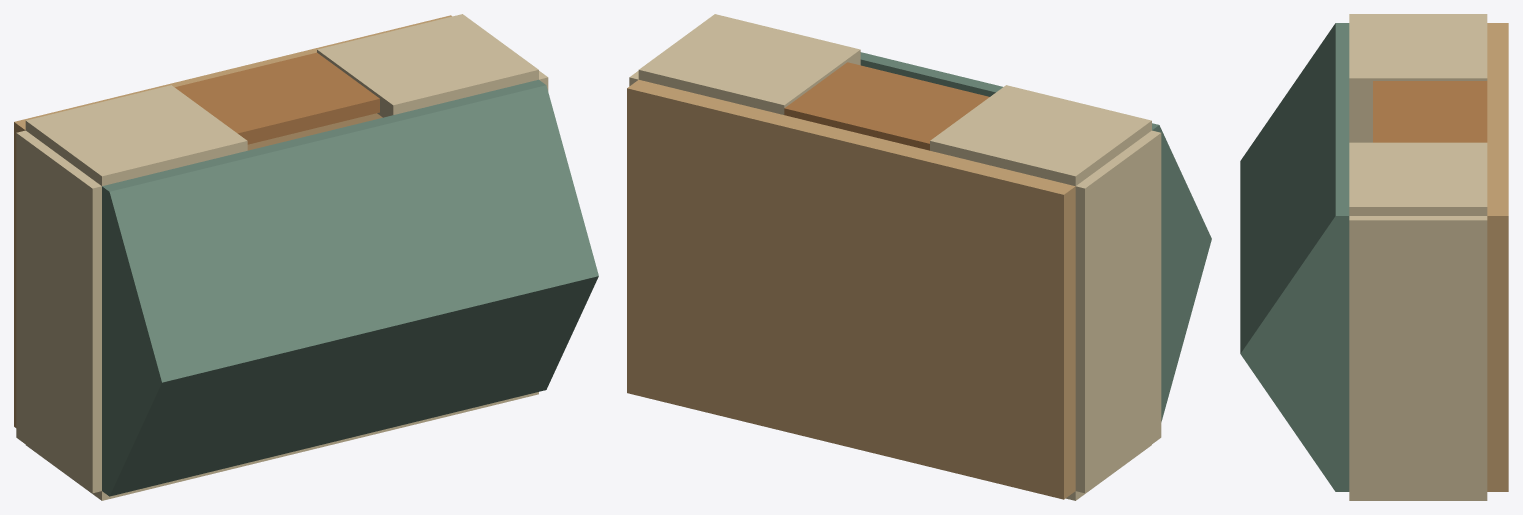
The model's file is garden-cabin.obj.
3 renders of one model, left to right at view 1: azimuth 30°, elevation 25°; view 2: azimuth 150°, elevation 25°; view 3: azimuth 270°, elevation 25°, orthographic. The views are drawn at different scales.
Visible parts, largest first — view 1: roof_tile0-1, roof_tile2-1, roof_tile1-1, roof_tile0-0, roof_tile2-0, roof_tile1-0, walls_edge4, walls_edge7, walls_edge3, walls_edge8, door_whole, foundation_tile1-1 (+3 smaller); view 2: foundation_tile0-1, foundation_tile0-0, foundation_tile1-1, foundation_tile2-1, foundation_tile1-0, foundation_tile2-0, walls_edge4, walls_edge3, walls_edge7, walls_edge8, door_whole, roof_tile0-1 (+2 smaller); view 3: walls_edge6, walls_edge5, roof_tile2-1, walls_edge8, walls_edge7, roof_tile2-0, roof_tile1-1, roof_tile0-1, door_whole, foundation_tile2-1, foundation_tile2-0, foundation_tile0-1 (+3 smaller).
Part boxes in pixels (<box>): roof_tile0-1: <box>102,151,307,382</box>; roof_tile2-1: <box>393,79,598,311</box>; roof_tile1-1: <box>248,115,453,346</box>; roof_tile0-0: <box>102,339,307,496</box>; roof_tile2-0: <box>401,276,598,425</box>; roof_tile1-0: <box>255,312,452,460</box>; walls_edge4: <box>16,130,101,340</box>; walls_edge7: <box>25,85,247,185</box>; walls_edge3: <box>16,285,101,493</box>; walls_edge8: <box>317,14,538,117</box>; door_whole: <box>175,52,379,144</box>; foundation_tile1-1: <box>160,51,316,150</box>; foundation_tile0-1: <box>918,151,1075,347</box>; foundation_tile0-0: <box>918,312,1075,499</box>; foundation_tile1-1: <box>772,115,929,311</box>; foundation_tile2-1: <box>627,80,783,275</box>; foundation_tile1-0: <box>772,276,918,463</box>; foundation_tile2-0: <box>627,240,772,428</box>; walls_edge4: <box>1075,130,1161,340</box>; walls_edge3: <box>1075,285,1161,493</box>; walls_edge7: <box>930,85,1151,186</box>; walls_edge8: <box>638,14,860,114</box>; door_whole: <box>784,62,989,150</box>; roof_tile0-1: <box>1152,123,1211,275</box>; walls_edge6: <box>1349,216,1487,358</box>; walls_edge5: <box>1349,358,1487,496</box>; roof_tile2-1: <box>1240,151,1349,353</box>; walls_edge8: <box>1349,142,1487,215</box>; walls_edge7: <box>1349,14,1487,96</box>; roof_tile2-0: <box>1240,354,1349,491</box>; roof_tile1-1: <box>1240,87,1349,289</box>; roof_tile0-1: <box>1240,23,1349,224</box>; door_whole: <box>1373,81,1487,142</box>; foundation_tile2-1: <box>1487,151,1508,353</box>; foundation_tile2-0: <box>1487,354,1508,491</box>; foundation_tile0-1: <box>1487,23,1508,87</box>.
Size of the model in its own units: 3.13 by 2.13 by 1.76.
